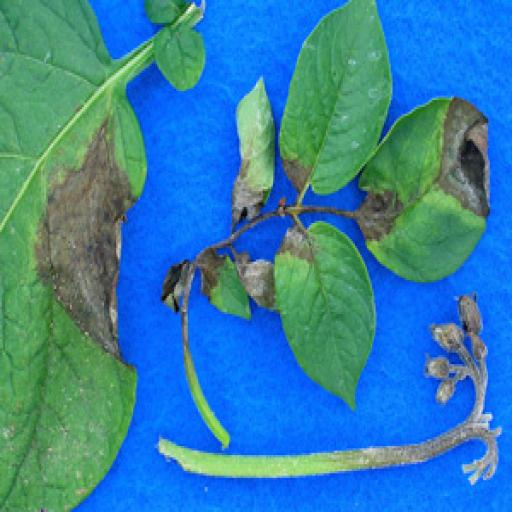disease_tomato: (2, 2, 150, 512), (358, 91, 498, 289), (278, 2, 394, 200), (273, 216, 382, 412), (232, 76, 280, 228)
